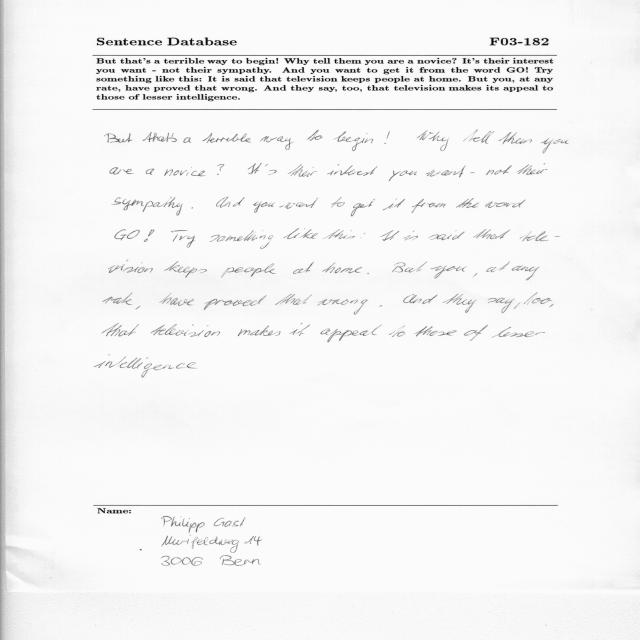word: (95, 357, 185, 378), (113, 197, 182, 216), (210, 230, 273, 249), (320, 325, 382, 342), (204, 295, 266, 310), (151, 324, 220, 337), (221, 263, 276, 278), (317, 299, 368, 315), (334, 132, 373, 152), (164, 261, 207, 278), (417, 130, 449, 151), (443, 294, 476, 313), (327, 164, 378, 176), (492, 327, 545, 338), (109, 260, 153, 273), (202, 132, 251, 143), (103, 323, 139, 337), (412, 199, 446, 213), (238, 326, 281, 337), (426, 166, 465, 178), (431, 266, 467, 279), (260, 136, 293, 150), (159, 293, 194, 306), (520, 231, 560, 242), (463, 130, 494, 144), (171, 230, 195, 248), (414, 326, 457, 336), (279, 198, 318, 209), (512, 266, 540, 281), (498, 132, 532, 144), (351, 199, 375, 216), (275, 294, 312, 305), (541, 138, 568, 153), (488, 298, 515, 313), (322, 263, 362, 273), (392, 262, 427, 273), (464, 325, 488, 341), (164, 167, 206, 176), (288, 164, 317, 177), (517, 163, 548, 175), (474, 229, 511, 239), (485, 199, 526, 208), (429, 231, 465, 241), (283, 229, 318, 239), (403, 294, 438, 304), (103, 293, 132, 305), (143, 132, 177, 142), (524, 293, 552, 305), (323, 230, 355, 240), (216, 197, 245, 208), (389, 170, 417, 181), (115, 229, 140, 241), (289, 323, 310, 336), (253, 201, 275, 213), (383, 199, 405, 211), (486, 262, 510, 273), (107, 133, 133, 143), (486, 165, 512, 175), (293, 262, 314, 274), (456, 198, 479, 208), (381, 230, 399, 241), (110, 167, 134, 175), (173, 133, 192, 143), (389, 326, 405, 337), (307, 130, 322, 141), (248, 164, 262, 175), (331, 197, 345, 208), (404, 231, 418, 241), (144, 229, 154, 242), (265, 164, 276, 175), (217, 164, 224, 175), (385, 131, 390, 144), (187, 362, 196, 369), (146, 169, 154, 175), (514, 303, 520, 309), (136, 306, 141, 310), (473, 273, 477, 277), (549, 304, 554, 307), (379, 305, 382, 307), (471, 173, 475, 174), (192, 207, 193, 209), (367, 273, 369, 274), (364, 233, 365, 234), (188, 138, 189, 138)
